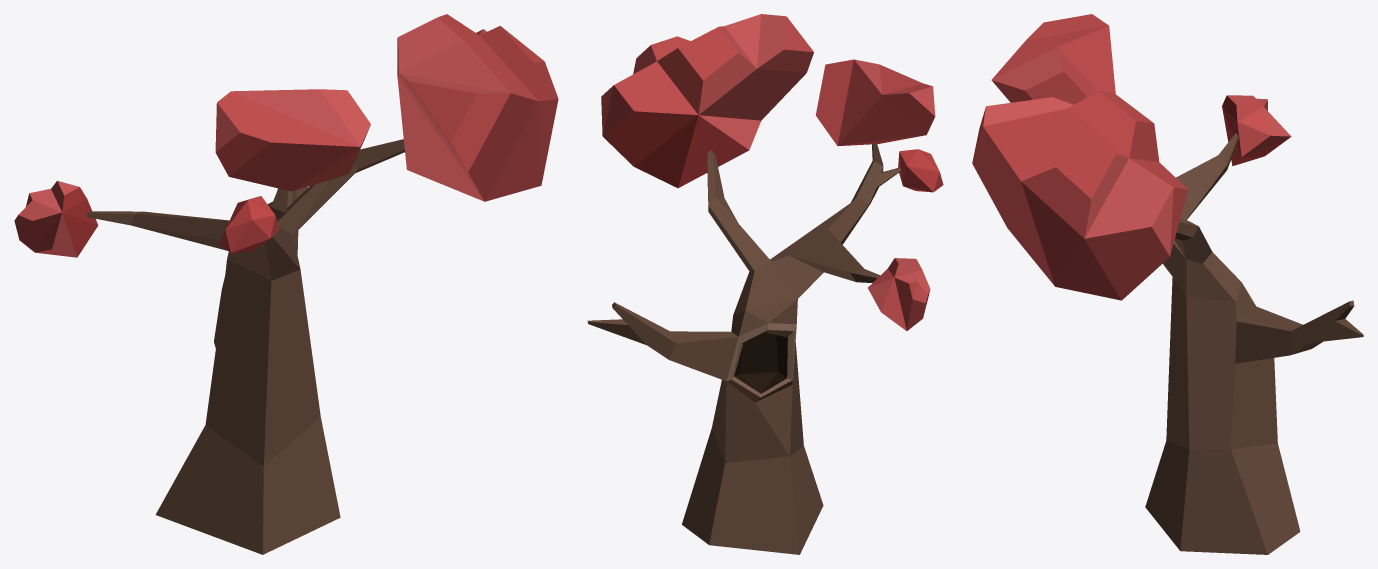
The model's file is TreeAutumn1.fbx.
3 views of the same model, side by side, from view 1: azimuth 30°, elevation 25°; view 2: azimuth 150°, elevation 25°; view 3: azimuth 270°, elevation 25° (orthographic). The views are drawn at different scales.
Parts seen in each view (by area): view 1: TreeAutumn1; view 2: TreeAutumn1; view 3: TreeAutumn1.
Part boxes in pixels (left/top/right/bottom): TreeAutumn1: left=14, top=14, right=558, bottom=554; TreeAutumn1: left=587, top=14, right=943, bottom=554; TreeAutumn1: left=972, top=14, right=1363, bottom=554.
Bounding box in the file's own units: 1.78 × 1.96 × 1.44.
